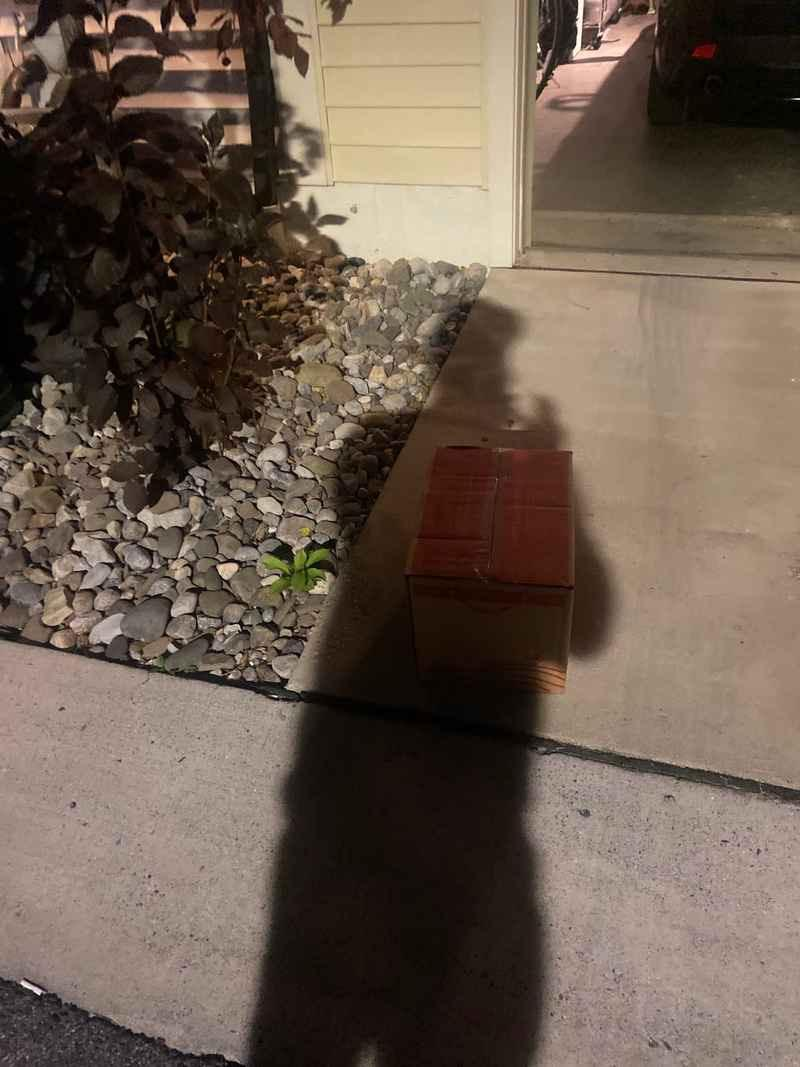package: (408, 439, 582, 704)
